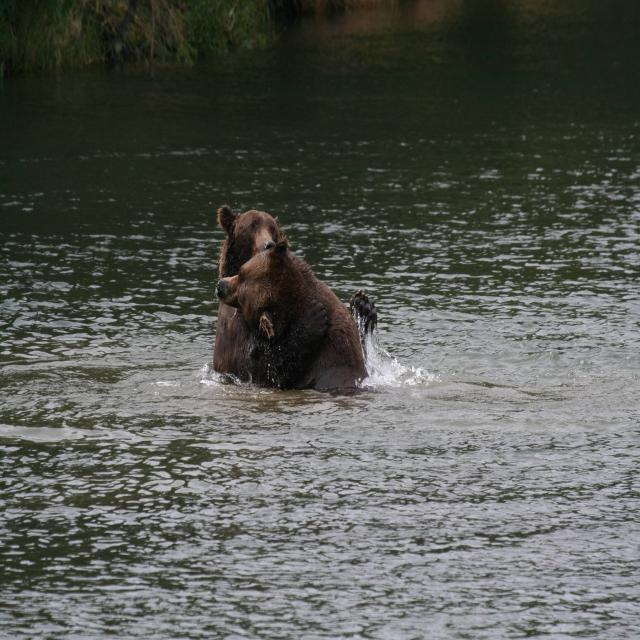bear face: (215, 247, 363, 393), (218, 204, 281, 277)
